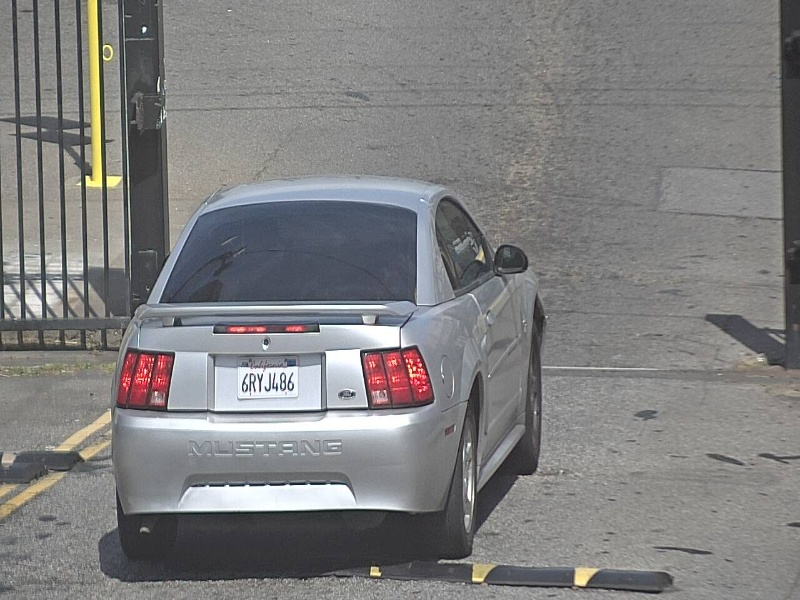licence plate: (237, 355, 300, 401)
